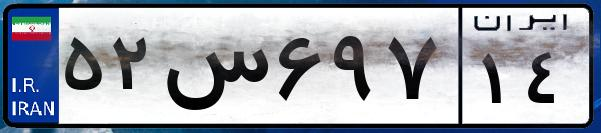1: (475, 38, 525, 113)
2: (110, 28, 158, 98)
4: (525, 38, 570, 115)
5: (57, 26, 110, 100)
6: (270, 28, 330, 110)
7: (385, 28, 445, 110)
9: (330, 28, 385, 110)
س: (158, 20, 270, 120)
